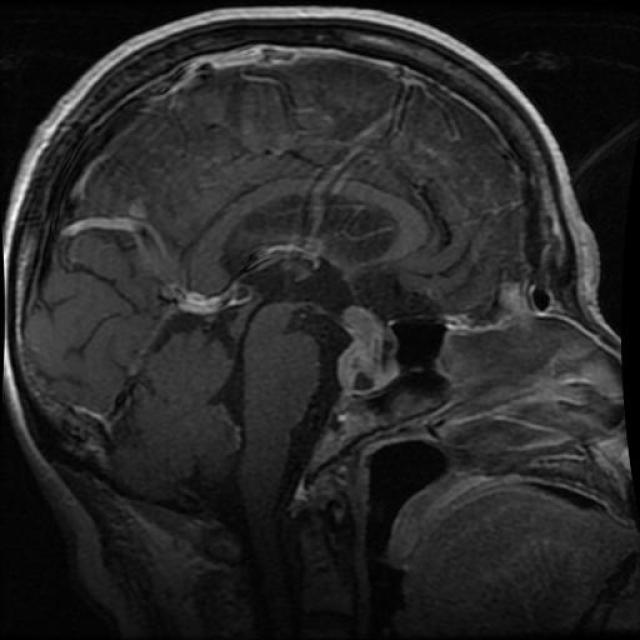pituitary: (325, 297, 417, 406)
